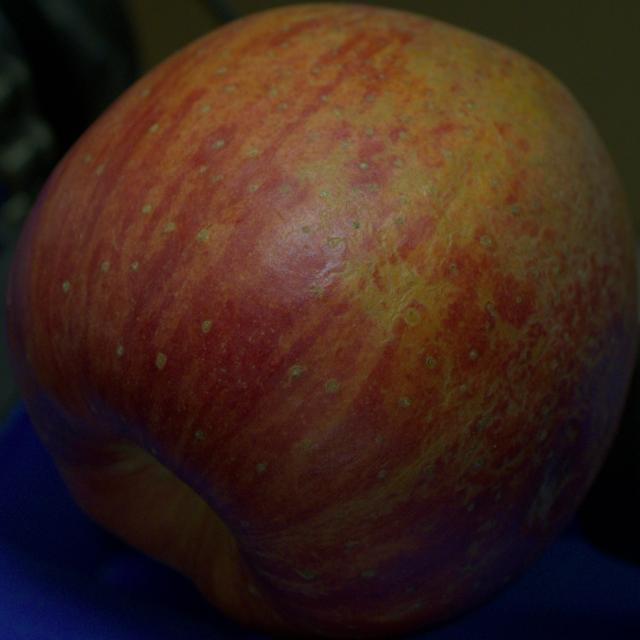apple: (7, 2, 638, 638)
